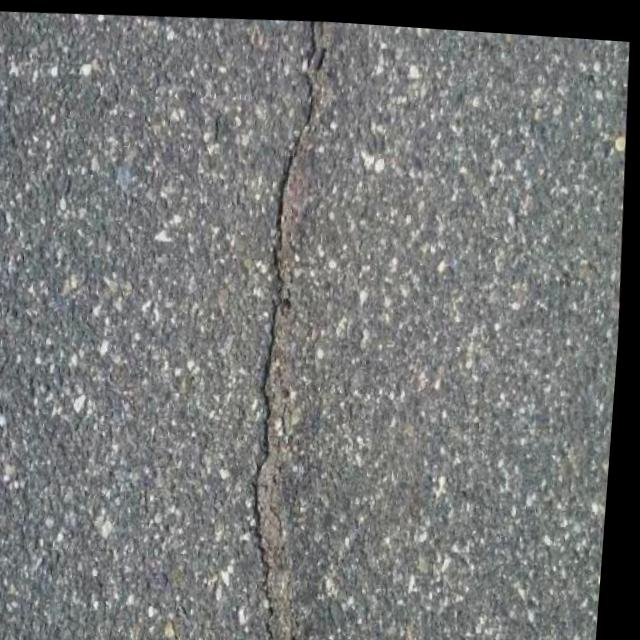Crack: (223, 14, 356, 640)
